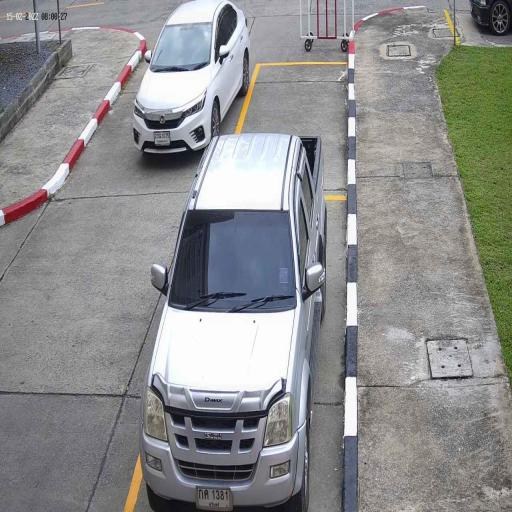car: (138, 132, 327, 512), (132, 1, 252, 158)
